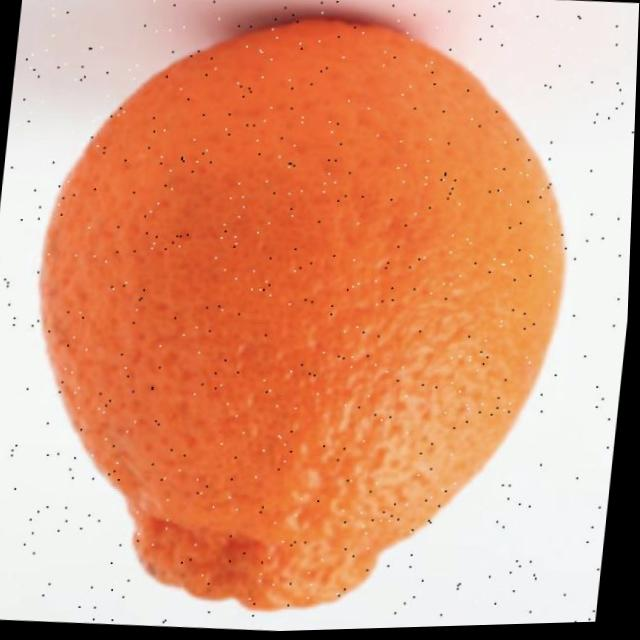Orange: (6, 0, 592, 639)
